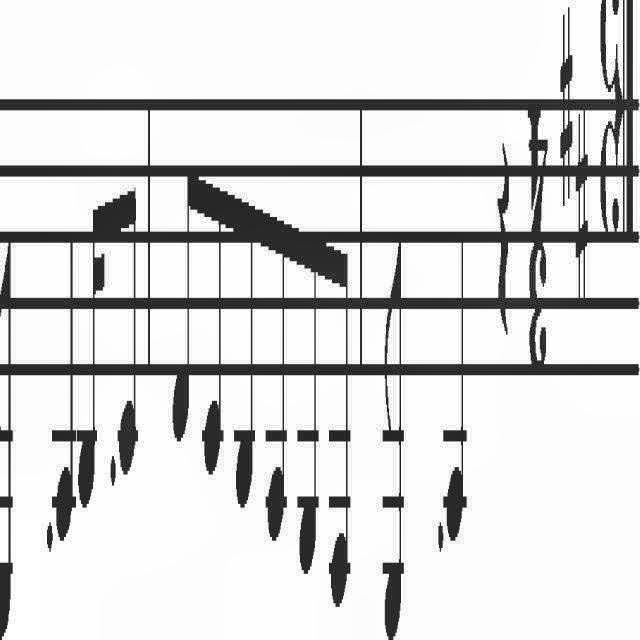Diez: (572, 82, 592, 354), (554, 0, 574, 236)
Eighth-note: (378, 243, 406, 640), (297, 174, 323, 590), (266, 180, 294, 560), (54, 140, 78, 568), (233, 167, 260, 535), (328, 235, 352, 629), (172, 106, 196, 498), (116, 157, 140, 531), (1, 232, 23, 640), (205, 166, 228, 510)
Quarter-note: (442, 212, 470, 604)
Quarter-rest: (492, 49, 512, 377)
Sixteenth-note: (78, 186, 106, 528)
